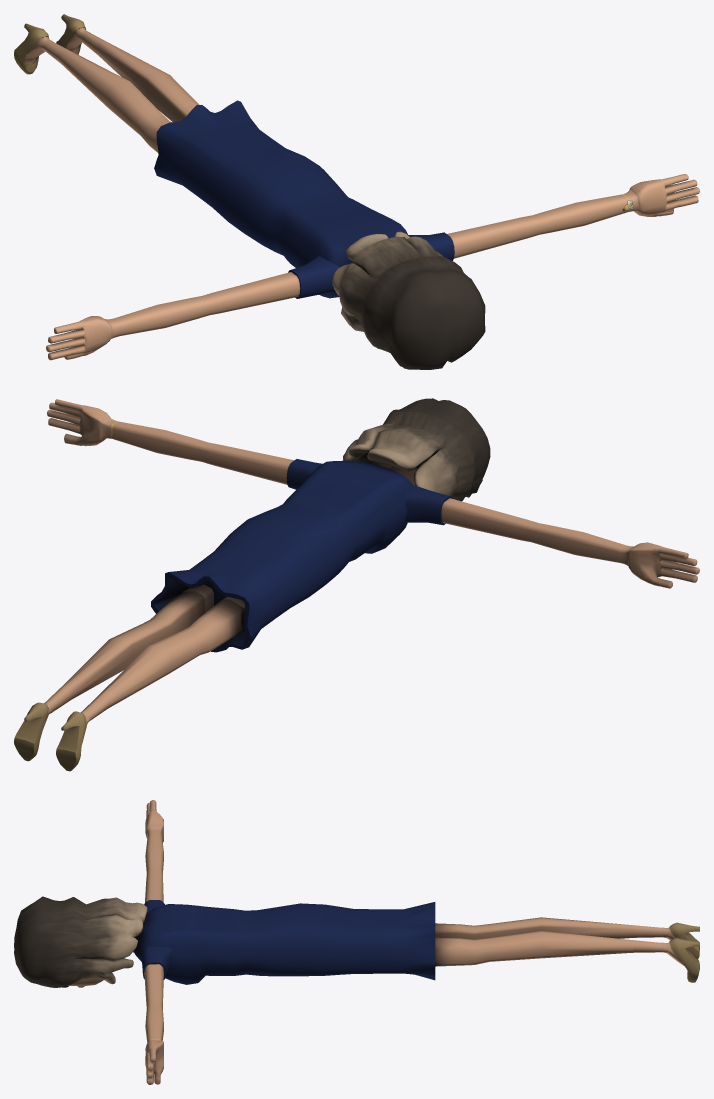
File: vivian2.obj
3 views of the same model, one above another, from view 1: azimuth 30°, elevation 25°; view 2: azimuth 150°, elevation 25°; view 3: azimuth 270°, elevation 25° (orthographic). The views are drawn at different scales.
Visible parts, largest first — view 1: BodyWhole_WholeArms, Body, HandRight, HandLeft; view 2: BodyWhole_WholeArms, Body, HandRight, HandLeft; view 3: BodyWhole_WholeArms, Body, HandLeft.
Boxes of the visible parts, x1=… form: BodyWhole_WholeArms: x1=14, y1=14, x2=698, y2=369; Body: x1=35, y1=33, x2=397, y2=266; HandRight: x1=46, y1=316, x2=112, y2=359; HandLeft: x1=630, y1=174, x2=699, y2=216; BodyWhole_WholeArms: x1=14, y1=398, x2=697, y2=771; Body: x1=35, y1=461, x2=403, y2=755; HandRight: x1=628, y1=542, x2=699, y2=588; HandLeft: x1=47, y1=399, x2=110, y2=445; BodyWhole_WholeArms: x1=14, y1=800, x2=699, y2=1084; Body: x1=134, y1=902, x2=633, y2=980; HandLeft: x1=145, y1=1040, x2=163, y2=1084.
Size of the model in its own units: 172 by 24.98 by 187.
